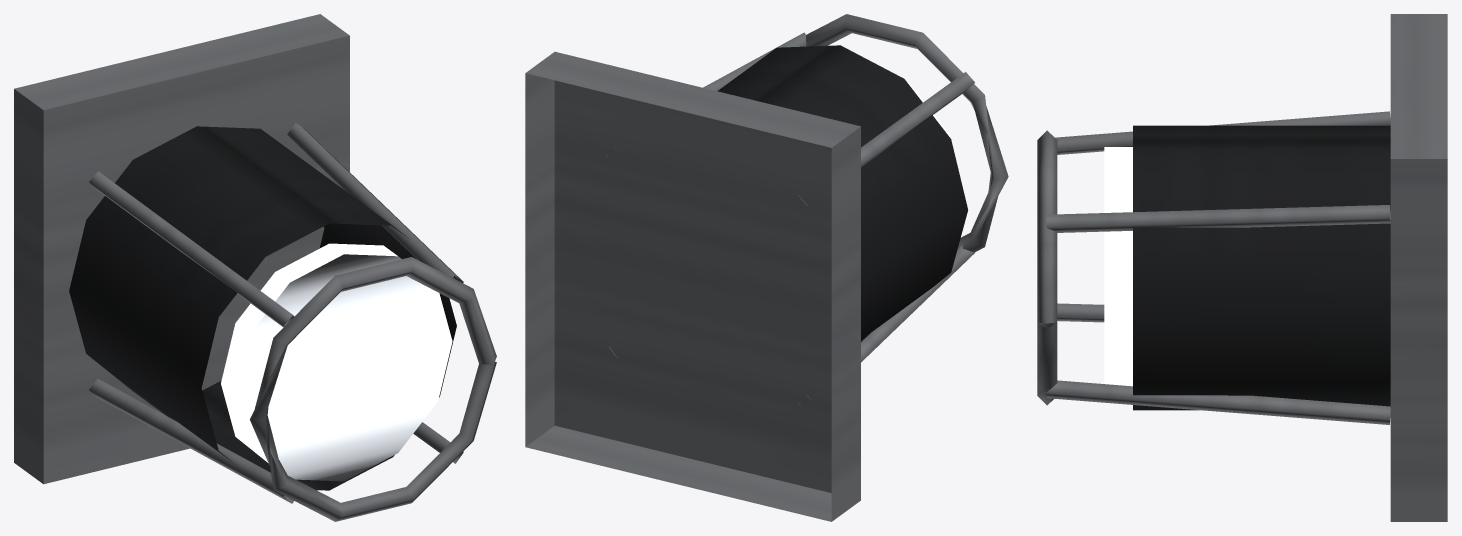
The model's file is SM_LFD_LightRig_CageLamp.fbx.
The picture shows the model from 3 angles, left to right: view 1: azimuth 30°, elevation 25°; view 2: azimuth 150°, elevation 25°; view 3: azimuth 270°, elevation 25°; orthographic projection. The views are drawn at different scales.
Visible parts, largest first — view 1: SM_LFD_LightRig_CageLamp; view 2: SM_LFD_LightRig_CageLamp; view 3: SM_LFD_LightRig_CageLamp.
Part boxes in pixels (x1,y1,x2,y2): SM_LFD_LightRig_CageLamp: [14, 14, 496, 521]; SM_LFD_LightRig_CageLamp: [525, 14, 1008, 521]; SM_LFD_LightRig_CageLamp: [1037, 14, 1447, 521].
Size of the model in its own units: 0.24 by 0.28 by 0.287.
